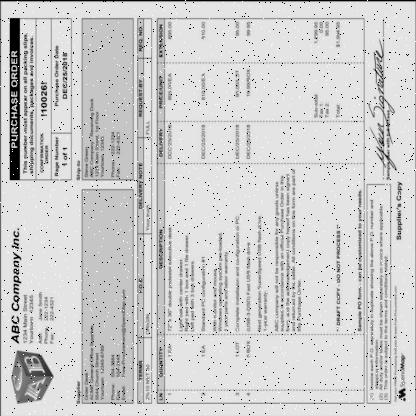Paragraph: (10, 29, 69, 177), (75, 288, 127, 404), (10, 226, 56, 345), (368, 197, 390, 401), (75, 96, 121, 180), (138, 358, 152, 402), (395, 180, 403, 240), (394, 284, 398, 402), (138, 160, 143, 209), (144, 310, 152, 336), (138, 77, 143, 117), (145, 202, 151, 232), (138, 24, 143, 52), (138, 276, 144, 292), (145, 119, 150, 135)
Table: (158, 17, 364, 402)
